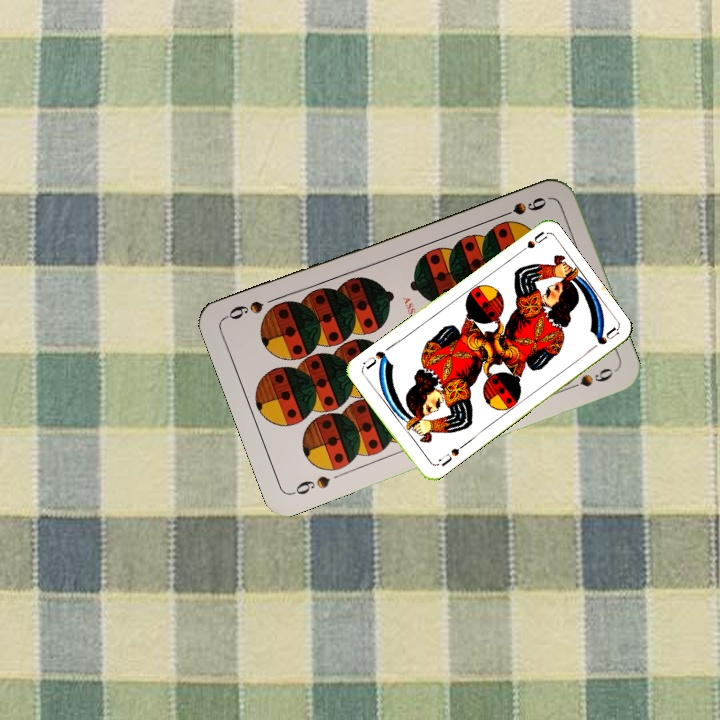S9: (494, 193, 549, 222), (288, 471, 333, 498)
SU: (512, 228, 548, 259), (434, 440, 467, 469)
